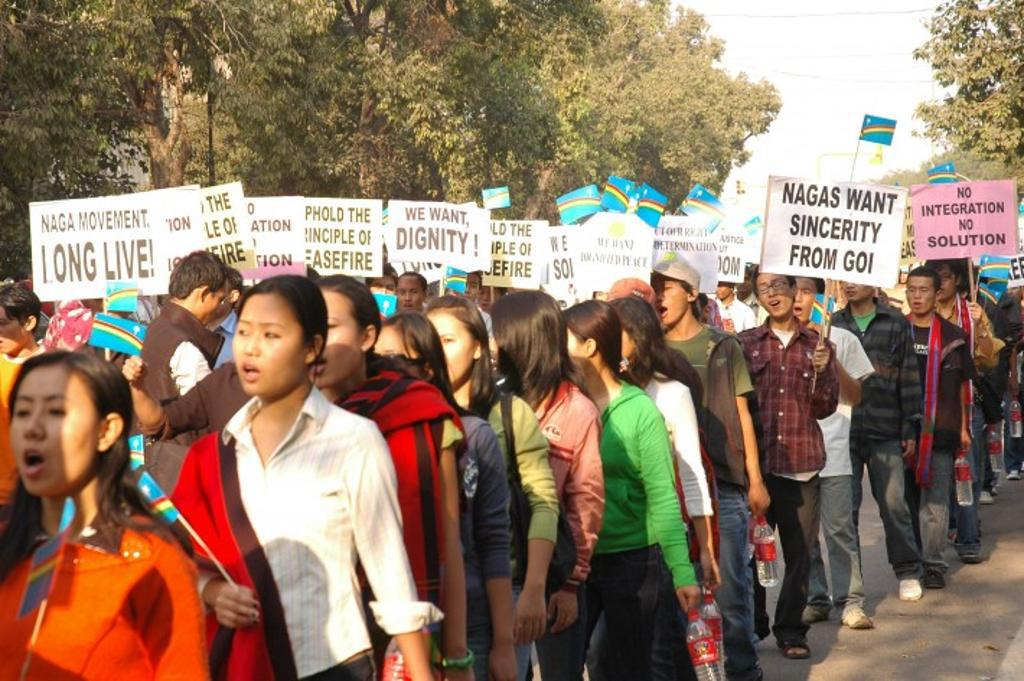face: (13, 382, 102, 495), (234, 306, 306, 396), (300, 296, 361, 388), (419, 320, 472, 386), (373, 339, 420, 401), (652, 276, 688, 324), (758, 273, 793, 316), (556, 325, 587, 372), (788, 281, 818, 321), (1, 309, 26, 352), (197, 288, 227, 323), (842, 270, 873, 301), (908, 283, 937, 315), (930, 268, 956, 301), (397, 281, 422, 313), (370, 278, 395, 308), (480, 283, 502, 311), (707, 273, 731, 298), (459, 277, 479, 305)
